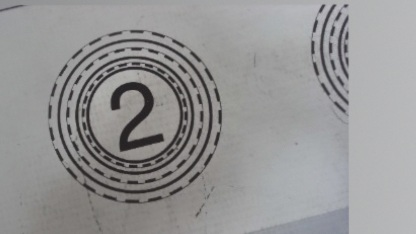2r: (44, 29, 224, 204)
